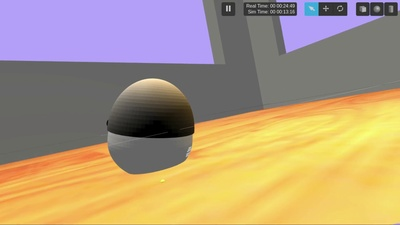mira_robot: (105, 76, 196, 174)
